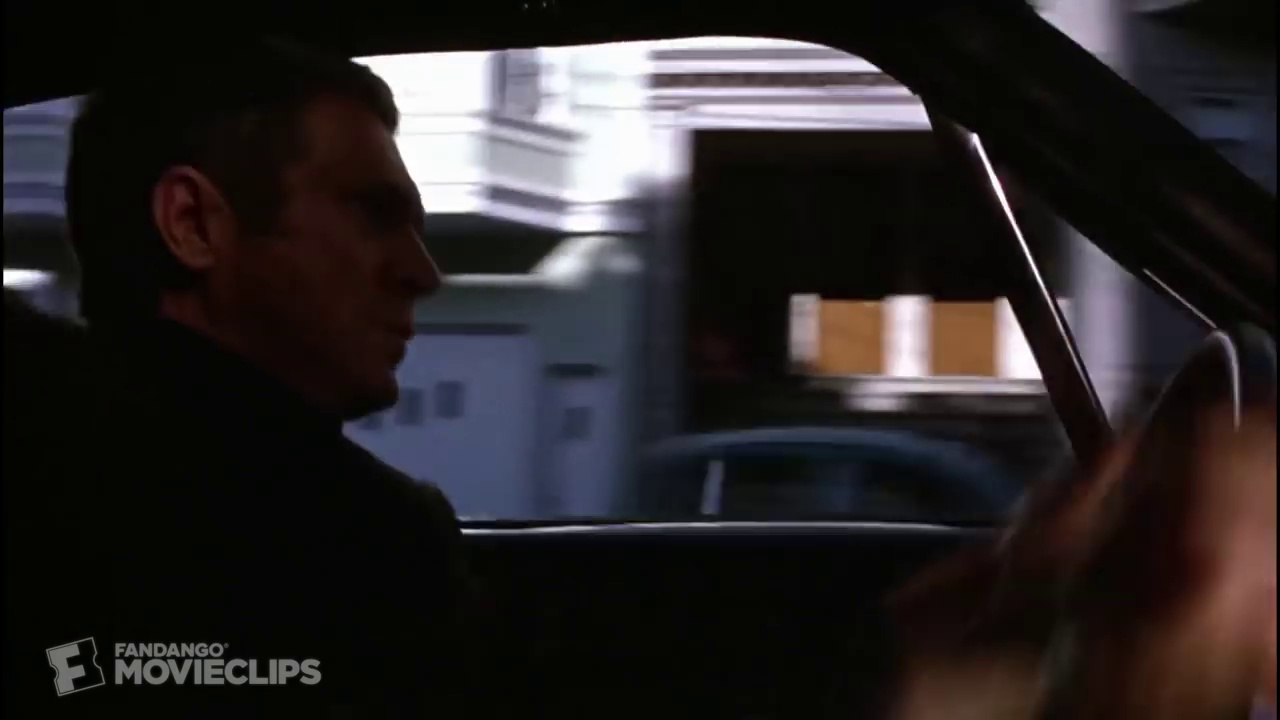car: (586, 411, 1041, 541)
person: (30, 31, 460, 720)
